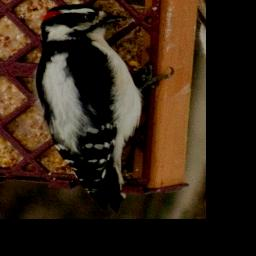Woodpecker: (37, 4, 174, 212)
